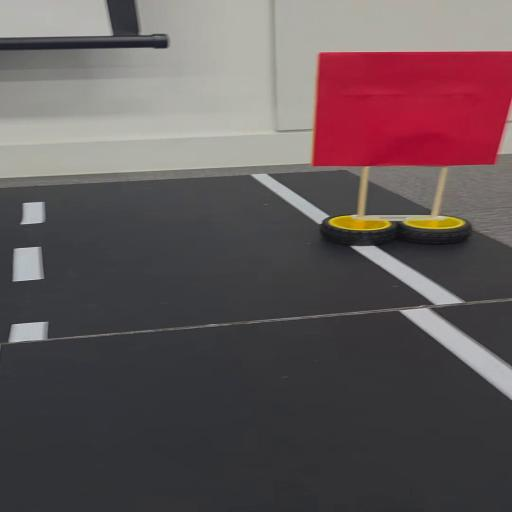Sign_A: (309, 44, 512, 247)
